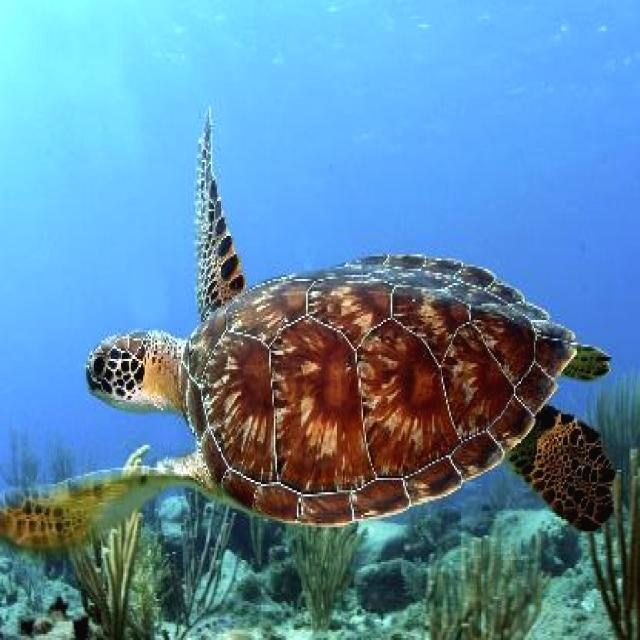Sea turtle: (4, 96, 630, 550)
